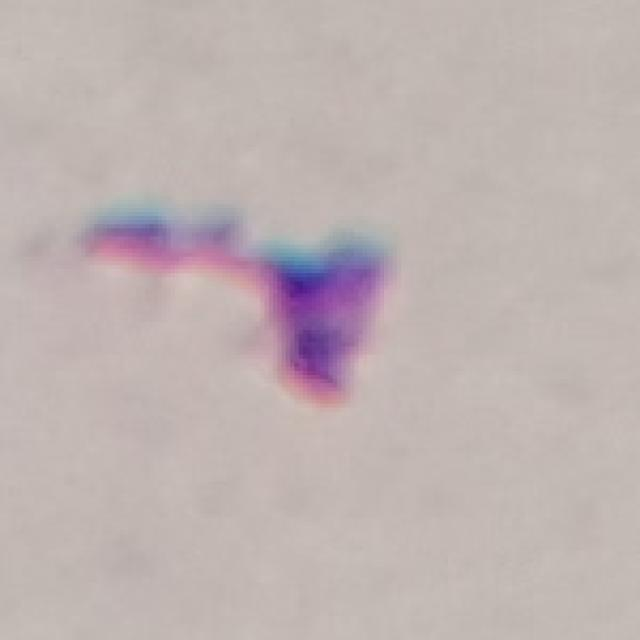non-sperm: (80, 209, 398, 410)
